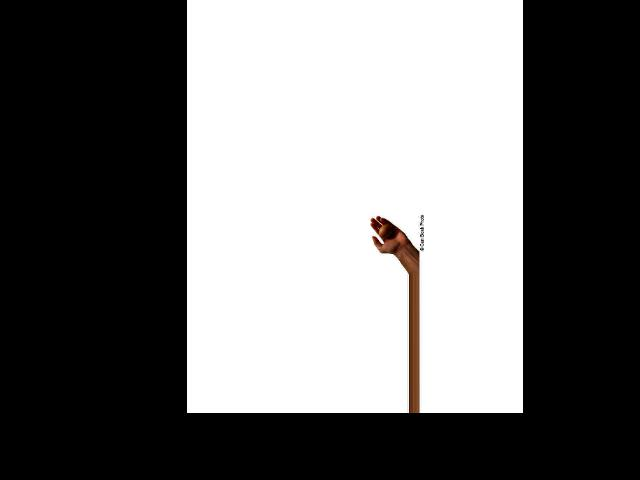egg: (379, 223, 392, 237)
